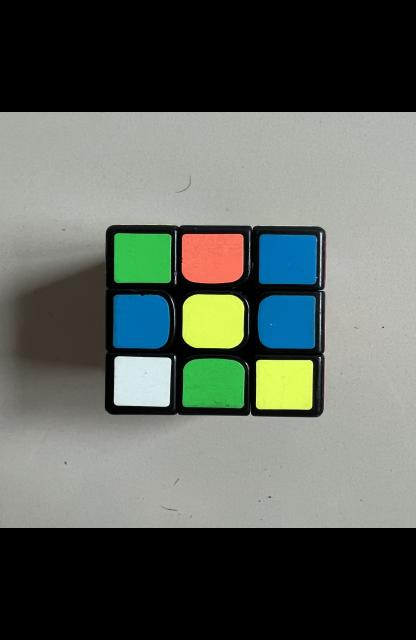Blue: (257, 295, 314, 349), (112, 294, 169, 348), (258, 234, 317, 284)
Green: (182, 358, 244, 408), (113, 233, 170, 283)
Orange: (180, 233, 243, 283)
White: (113, 356, 170, 407)
Yellow: (182, 294, 244, 348), (254, 360, 312, 410)
